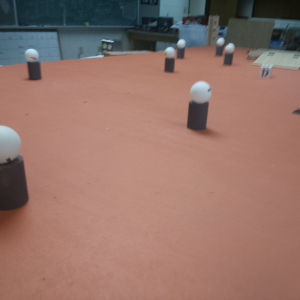blockD: (260, 62, 271, 78)
corner: (209, 15, 217, 47)
obstacle: (1, 122, 28, 211), (188, 80, 210, 131), (27, 48, 39, 83), (224, 43, 236, 65), (166, 46, 176, 71), (176, 39, 187, 61), (216, 38, 224, 55)
